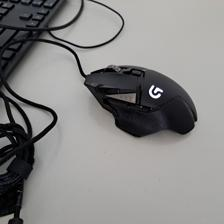mouse: (83, 63, 197, 138)
